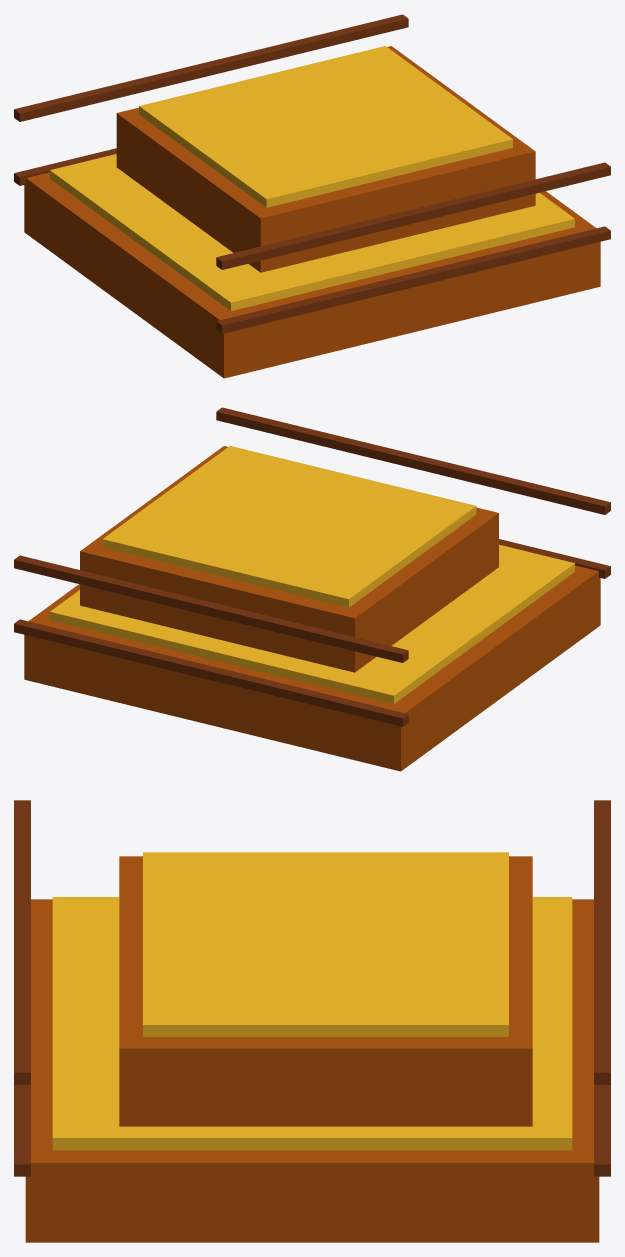
File: toy_wood_crate_step.glb
3 views of the same model, one above another, from view 1: azimuth 30°, elevation 25°; view 2: azimuth 150°, elevation 25°; view 3: azimuth 270°, elevation 25° (orthographic). The views are drawn at different scales.
Visible parts, largest first — view 1: solid_1, solid_4, solid_3, solid_2, solid_6, solid_7, solid_8, solid_5; view 2: solid_1, solid_4, solid_3, solid_2, solid_5, solid_7, solid_8, solid_6; view 3: solid_4, solid_1, solid_3, solid_2, solid_7, solid_8, solid_5, solid_6.
Part boxes in pixels (left/top/right/bottom): solid_1: left=24, top=172, right=600, bottom=378; solid_4: left=139, top=46, right=512, bottom=207; solid_3: left=116, top=46, right=535, bottom=272; solid_2: left=50, top=154, right=574, bottom=310; solid_6: left=216, top=226, right=610, bottom=333; solid_7: left=14, top=14, right=408, bottom=121; solid_8: left=216, top=162, right=610, bottom=269; solid_5: left=14, top=148, right=116, bottom=185; solid_1: left=24, top=565, right=600, bottom=771; solid_4: left=102, top=446, right=476, bottom=607; solid_3: left=80, top=446, right=498, bottom=672; solid_2: left=50, top=544, right=574, bottom=703; solid_5: left=14, top=619, right=408, bottom=726; solid_7: left=14, top=555, right=408, bottom=662; solid_8: left=216, top=407, right=610, bottom=514; solid_6: left=499, top=539, right=610, bottom=578; solid_4: left=143, top=852, right=508, bottom=1036; solid_1: left=25, top=899, right=599, bottom=1242; solid_3: left=119, top=856, right=532, bottom=1126; solid_2: left=52, top=897, right=572, bottom=1150; solid_7: left=594, top=800, right=610, bottom=1084; solid_8: left=14, top=800, right=30, bottom=1084; solid_5: left=594, top=1085, right=610, bottom=1176; solid_6: left=14, top=1085, right=30, bottom=1176.
Bounding box in the file's own units: 3.82 × 1.21 × 3.54.
